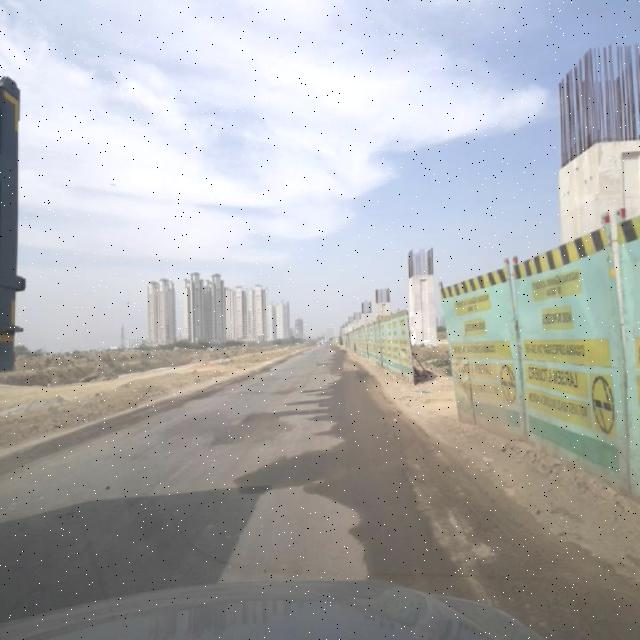D40: (204, 404, 298, 450)
